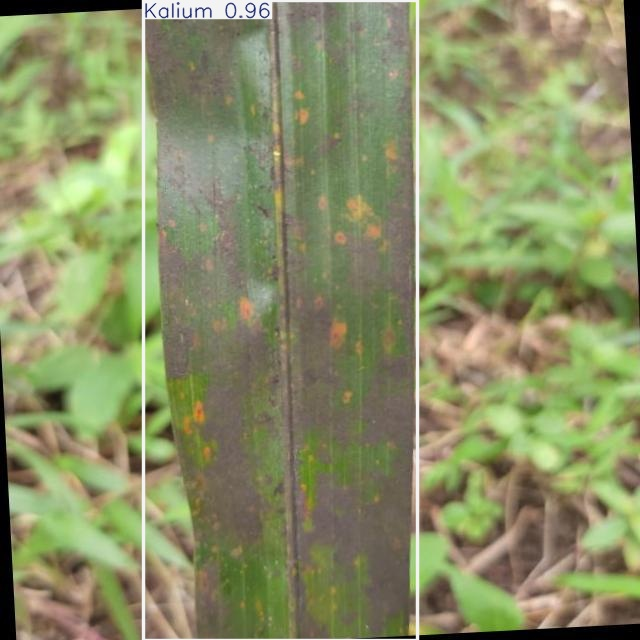Kalium: (144, 0, 417, 640)
